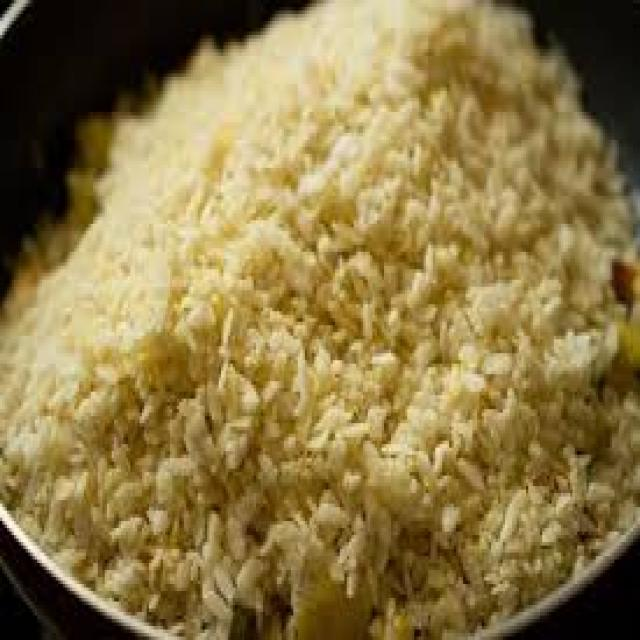POHA: (0, 0, 638, 637)
